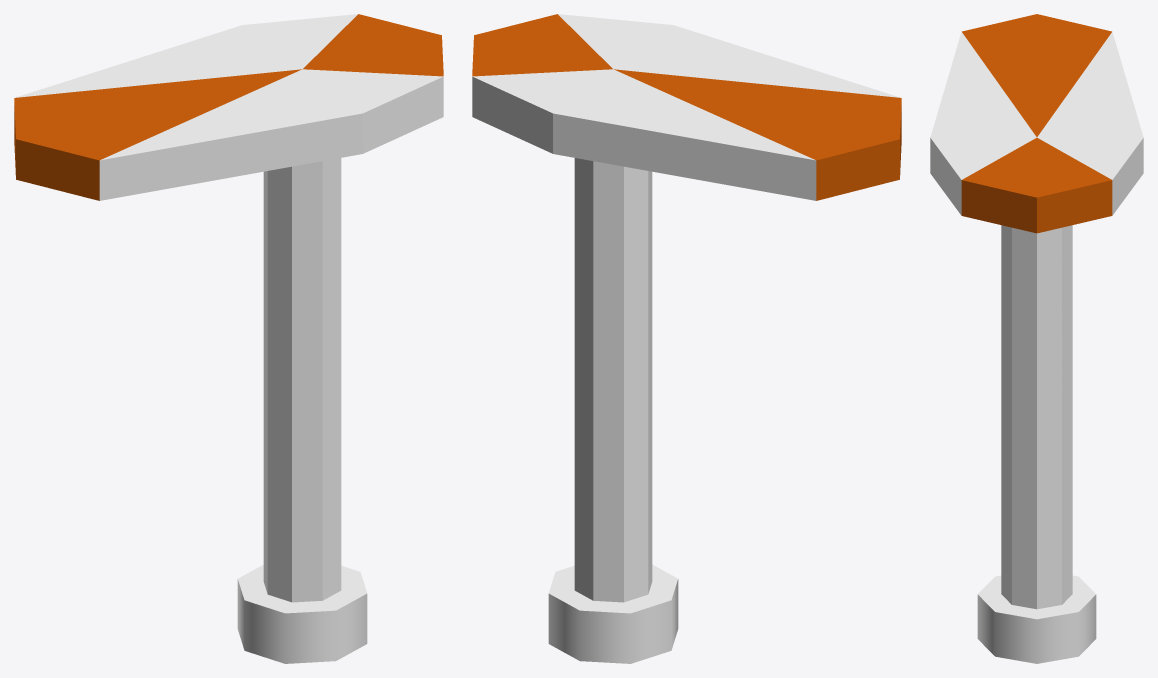
Rendered from Pounder.obj.
The picture shows the model from 3 angles, left to right: view 1: azimuth 30°, elevation 25°; view 2: azimuth 150°, elevation 25°; view 3: azimuth 270°, elevation 25°; orthographic projection. The views are drawn at different scales.
Visible parts, largest first — view 1: Cylinder_0, Cylinder_3, Cylinder_1, Cylinder_5, Cylinder_2; view 2: Cylinder_0, Cylinder_1, Cylinder_3, Cylinder_5, Cylinder_2; view 3: Cylinder_0, Cylinder_1, Cylinder_3, Cylinder_5, Cylinder_2.
Part boxes in pixels (x1=…): Cylinder_0: x1=99, y1=76, x2=443, y2=663; Cylinder_3: x1=15, y1=14, x2=443, y2=160; Cylinder_1: x1=237, y1=161, x2=366, y2=663; Cylinder_5: x1=14, y1=14, x2=443, y2=160; Cylinder_2: x1=14, y1=105, x2=99, y2=200; Cylinder_0: x1=472, y1=76, x2=816, y2=663; Cylinder_1: x1=548, y1=158, x2=677, y2=663; Cylinder_3: x1=472, y1=14, x2=900, y2=160; Cylinder_5: x1=472, y1=14, x2=901, y2=160; Cylinder_2: x1=816, y1=105, x2=901, y2=200; Cylinder_0: x1=930, y1=138, x2=1143, y2=663; Cylinder_1: x1=978, y1=225, x2=1096, y2=663; Cylinder_3: x1=930, y1=32, x2=1143, y2=179; Cylinder_5: x1=962, y1=14, x2=1111, y2=197; Cylinder_2: x1=961, y1=180, x2=1112, y2=233.
Size of the model in its own units: 5.5 by 7 by 2.7.
